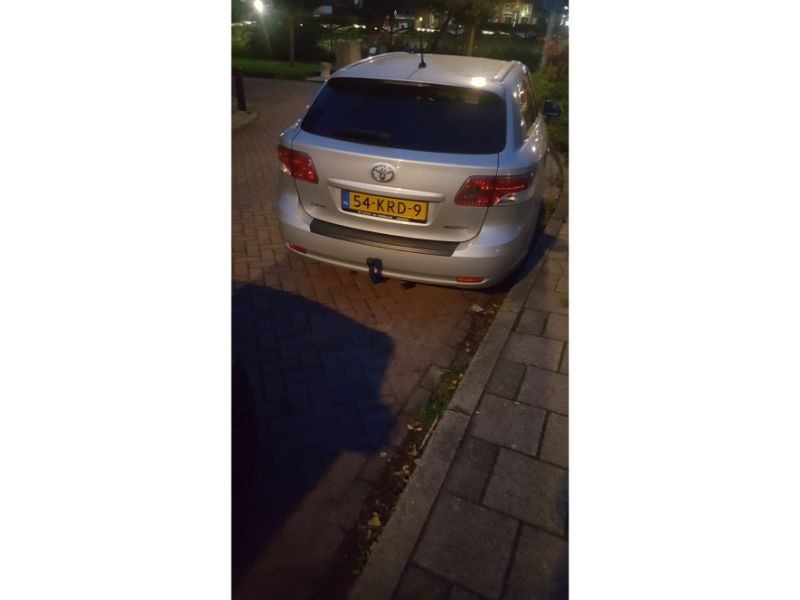kenteken: (335, 185, 433, 228)
